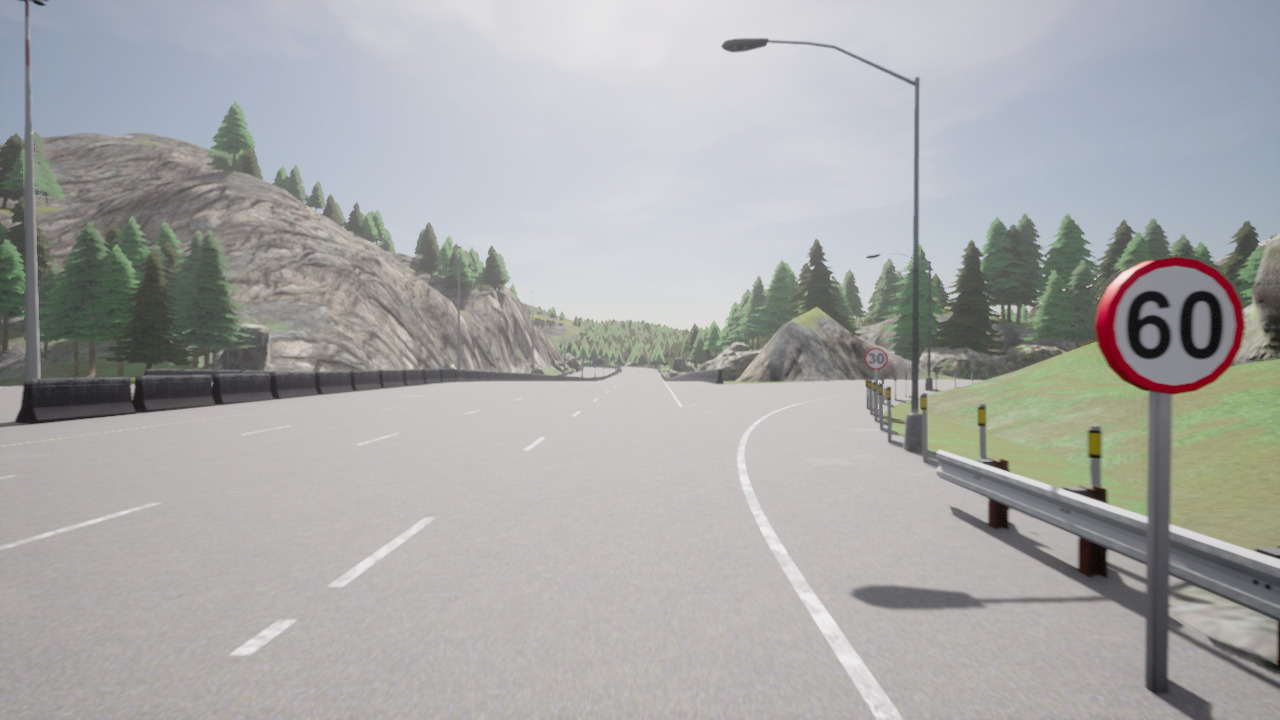sl30: (864, 347, 888, 370)
sl60: (1092, 255, 1247, 395)
